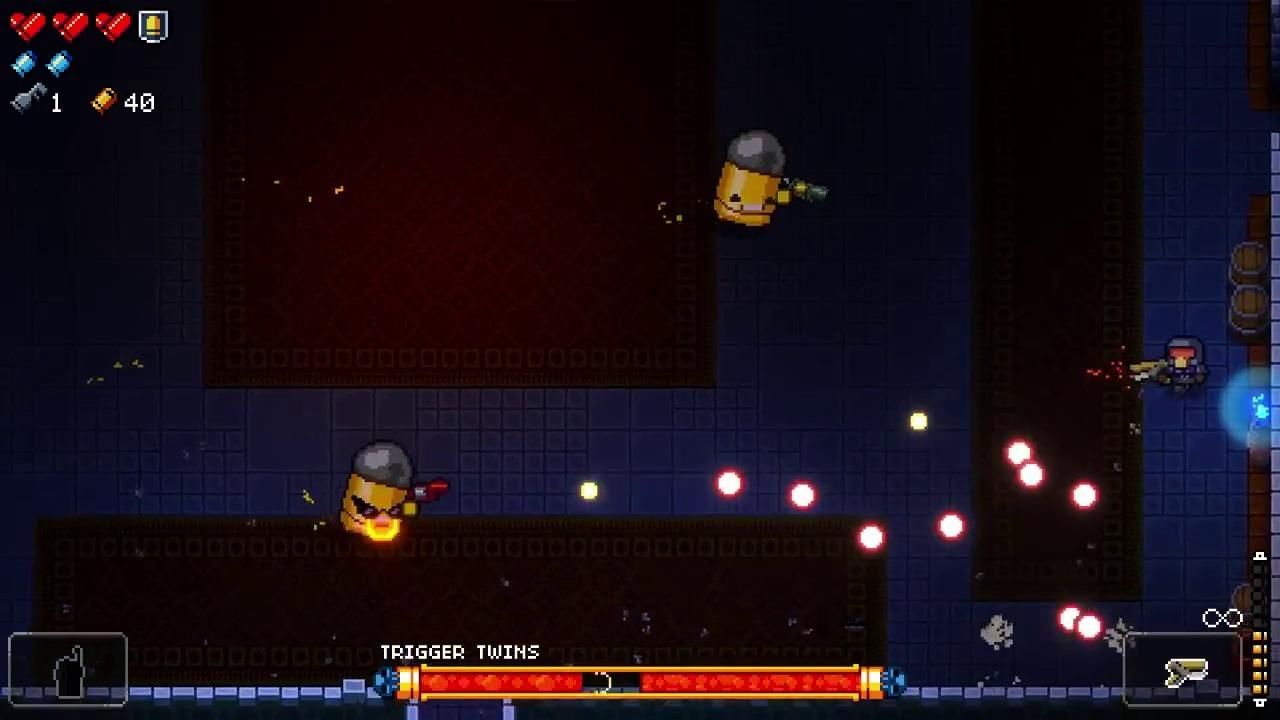boss_shades: (341, 441, 416, 539)
boss_smiley: (712, 130, 786, 229)
bullet: (788, 482, 822, 515), (1056, 601, 1089, 634), (1067, 480, 1101, 512), (856, 521, 887, 555), (936, 511, 967, 545), (1072, 613, 1107, 642), (713, 469, 745, 500), (1014, 459, 1045, 490), (1008, 441, 1035, 472)
player: (1164, 336, 1209, 389)
